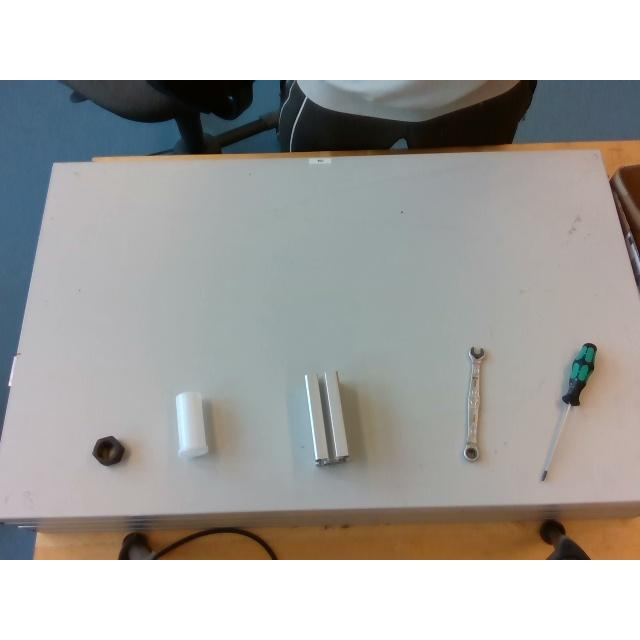M20: (92, 436, 124, 464)
S40_40_G: (304, 369, 348, 465)
Screwdriver: (540, 342, 596, 482)
Spacer: (176, 392, 208, 456)
Wrench: (463, 345, 485, 461)
